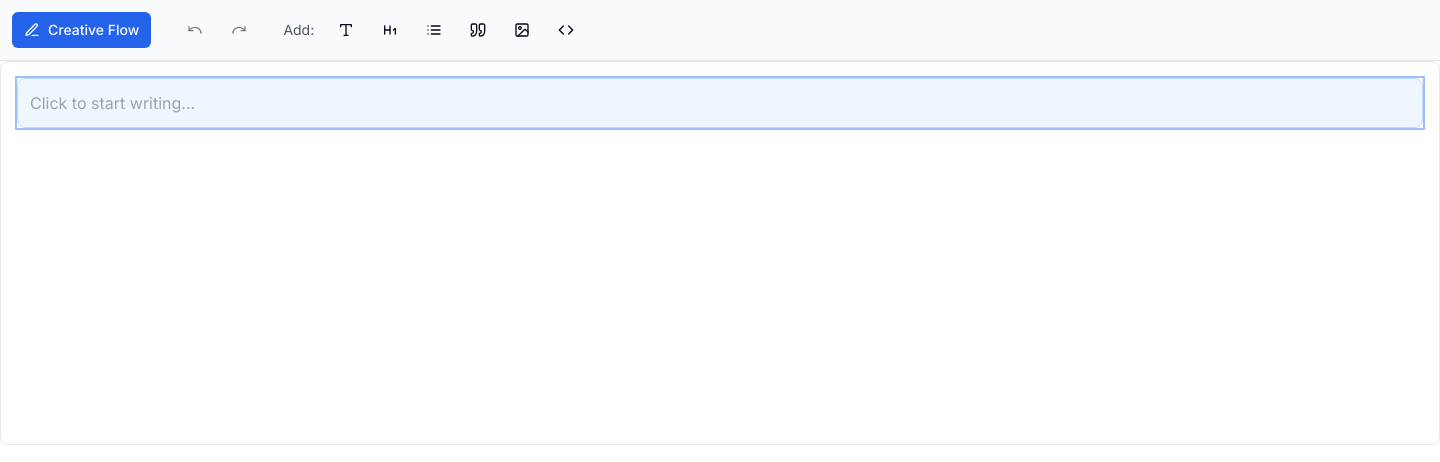
Test: WYSIWYGEditor › Mode Switching › should switch between creative-flow and suggestion modes
The width and height of the screenshot is (1440, 462).
Click to switch to suggestion mode
Click the button "Creative Flow" at (82, 30), box 12,12 -> 151,48
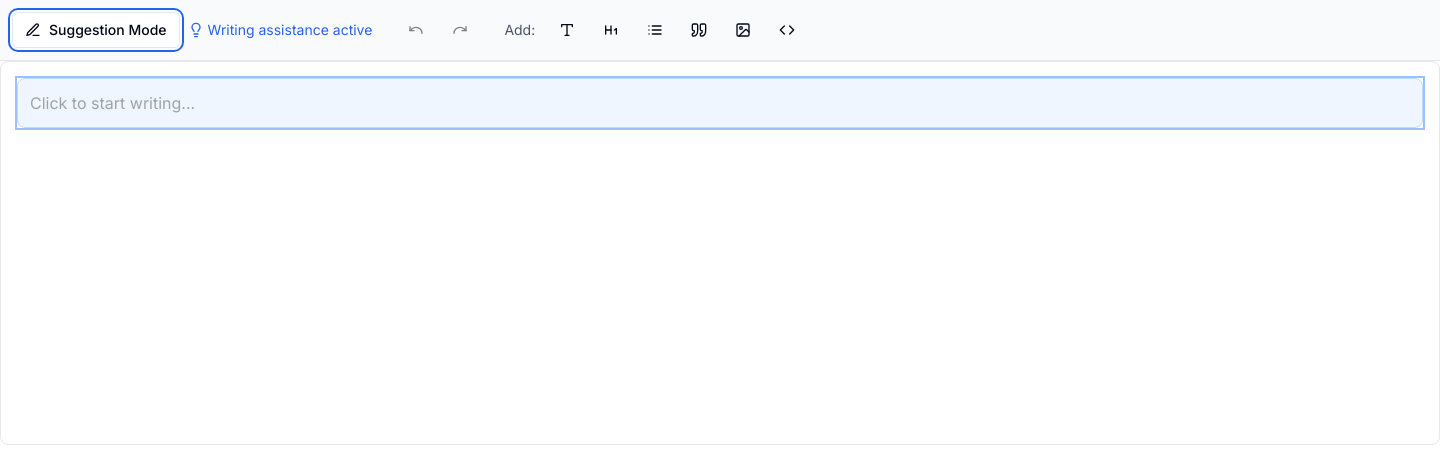
Now the button "Suggestion Mode" is shown, box 12,12 -> 180,48
Now the text "Writing assistance active" is shown, box 208,20 -> 372,40
